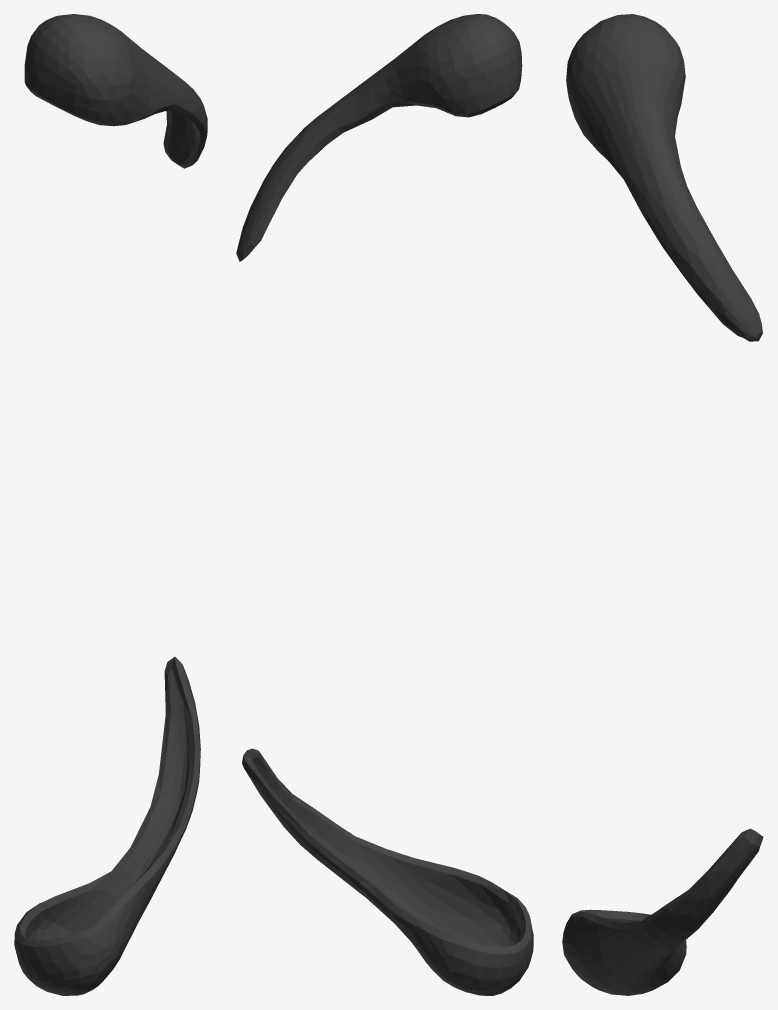
The model's file is Pelvis_ischiatic_tuberosity.glb.
The picture shows the model from 3 angles, left to right: view 1: azimuth 30°, elevation 25°; view 2: azimuth 150°, elevation 25°; view 3: azimuth 270°, elevation 25°; orthographic projection.
Visible parts, largest first — view 1: Pelvis_ischiatic_tuberosity; view 2: Pelvis_ischiatic_tuberosity; view 3: Pelvis_ischiatic_tuberosity.
Boxes of the visible parts, left/top/right/bottom form: Pelvis_ischiatic_tuberosity: left=14, top=14, right=207, bottom=995; Pelvis_ischiatic_tuberosity: left=236, top=14, right=533, bottom=995; Pelvis_ischiatic_tuberosity: left=562, top=14, right=763, bottom=995.
Size of the model in its own units: 1.35 by 5.47 by 1.02.
Materials: 1 (1 with a texture image).
